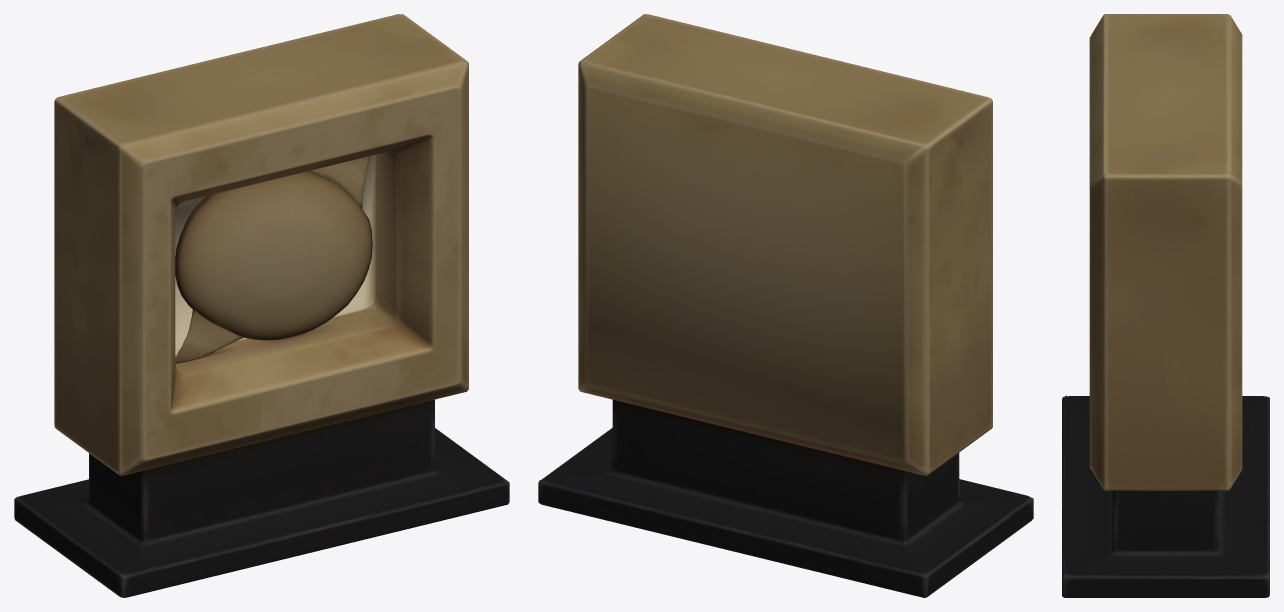
File: aisle-beacon.glb
The picture shows the model from 3 angles, left to right: view 1: azimuth 30°, elevation 25°; view 2: azimuth 150°, elevation 25°; view 3: azimuth 270°, elevation 25°; orthographic projection. The views are drawn at different scales.
Visible parts, largest first — view 1: Brass Aisle Beacon; view 2: Brass Aisle Beacon; view 3: Brass Aisle Beacon.
Part boxes in pixels (x1,y1,x2,y2): Brass Aisle Beacon: [14, 14, 509, 597]; Brass Aisle Beacon: [538, 14, 1033, 597]; Brass Aisle Beacon: [1062, 14, 1269, 597].
Bounding box in the file's own units: 0.9395 × 0.998 × 0.4551.
Materials: 1 (1 with a texture image).
